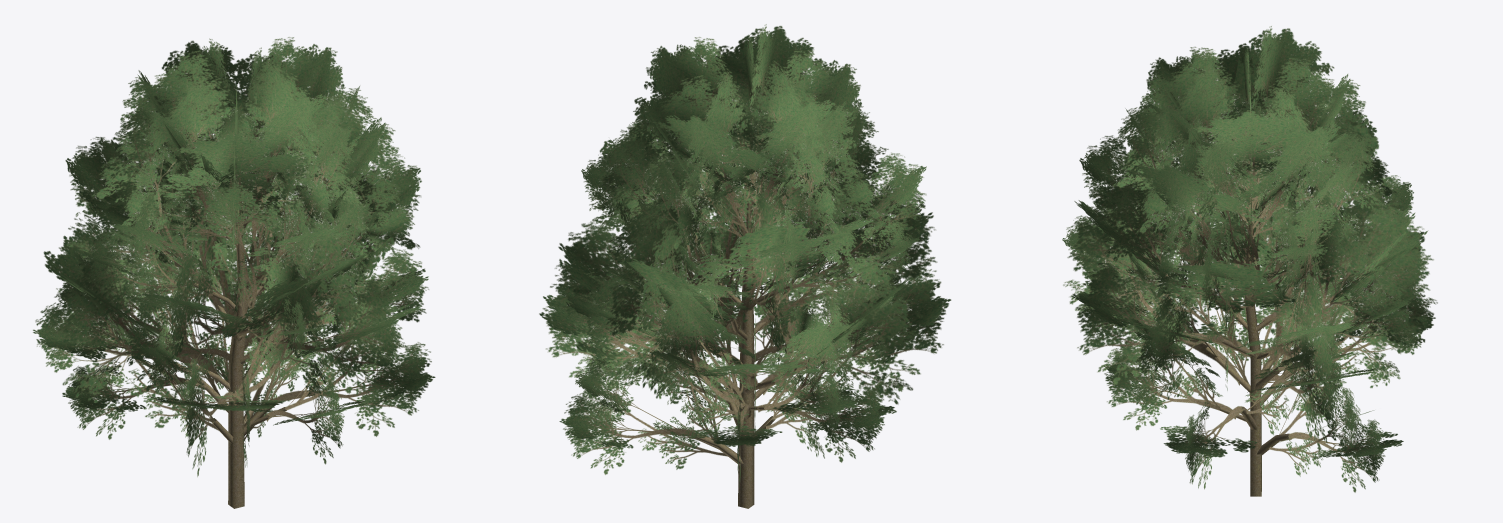
File: Ahorn.glb
3 views of the same model, side by side, from view 1: azimuth 30°, elevation 25°; view 2: azimuth 150°, elevation 25°; view 3: azimuth 270°, elevation 25° (orthographic). The views are drawn at different scales.
Visible parts, largest first — view 1: mesh; view 2: mesh; view 3: mesh.
Part boxes in pixels (bbox=[...]): mesh: bbox=[33, 37, 435, 508]; mesh: bbox=[539, 24, 951, 508]; mesh: bbox=[1062, 26, 1437, 496].
Size of the model in its own units: 21.14 by 22.28 by 20.69.
Materials: 1 (1 with a texture image).
